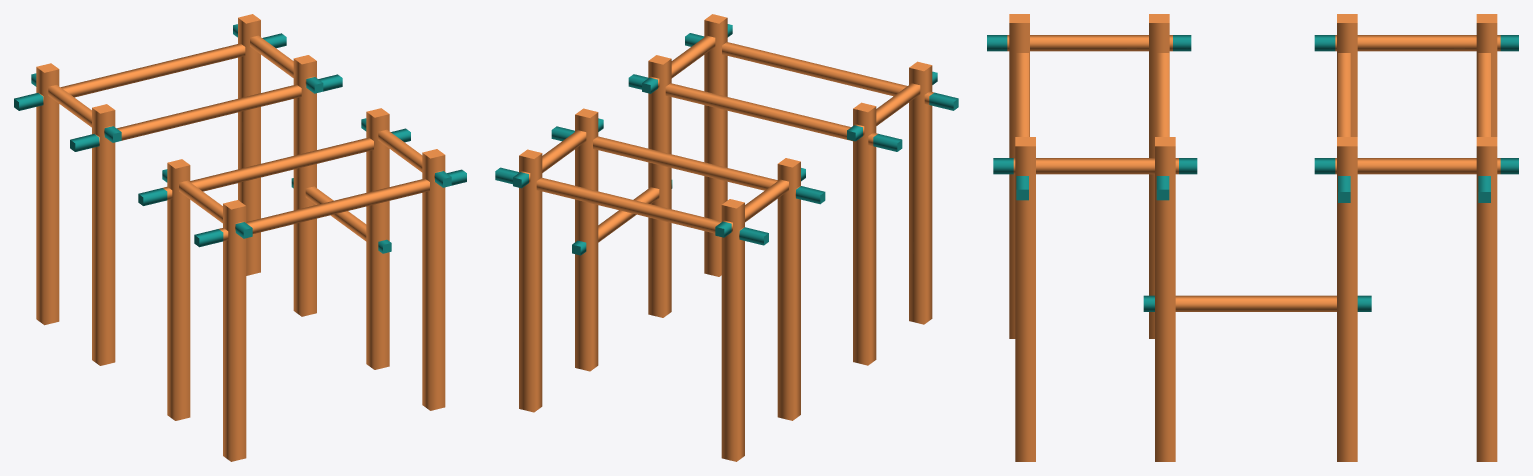
Rendered from SM_Bars.fbx.
3 renders of one model, left to right at view 1: azimuth 30°, elevation 25°; view 2: azimuth 150°, elevation 25°; view 3: azimuth 270°, elevation 25°, orthographic. The views are drawn at different scales.
Parts seen in each view (by area): view 1: SM_Bars; view 2: SM_Bars; view 3: SM_Bars.
Part boxes in pixels (box(x1,y1,x2,y2)): SM_Bars: box(14, 14, 466, 461); SM_Bars: box(495, 14, 958, 461); SM_Bars: box(987, 14, 1518, 461).
Bounding box in the file's own units: 464 × 412 × 629.
